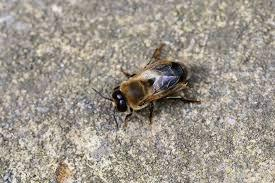worker-bee: (94, 44, 200, 125)
